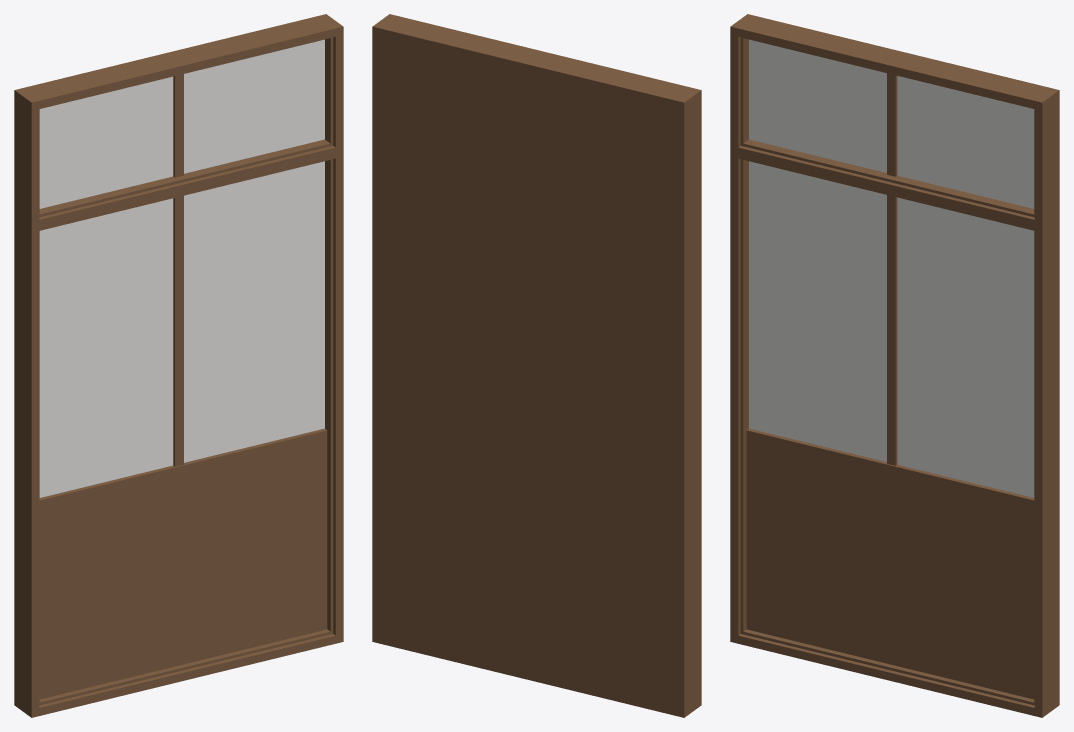
File: SM_door_japanese_02.fbx
The picture shows the model from 3 angles, left to right: view 1: azimuth 30°, elevation 25°; view 2: azimuth 150°, elevation 25°; view 3: azimuth 330°, elevation 25°; orthographic projection.
Parts seen in each view (by area): view 1: Object006; view 2: Object006; view 3: Object006.
Part boxes in pixels (x1,y1,x2,y2): Object006: (14, 14, 343, 717); Object006: (372, 14, 701, 717); Object006: (730, 14, 1059, 717).
Bounding box in the file's own units: 59.72 × 5.71 × 113.
